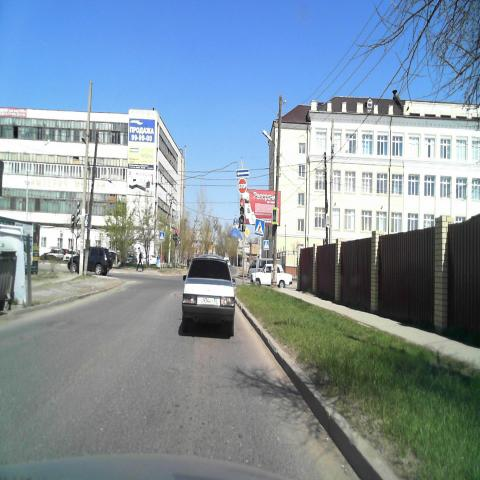2_5: (237, 179, 247, 194)
5_7_2: (236, 169, 250, 178)
